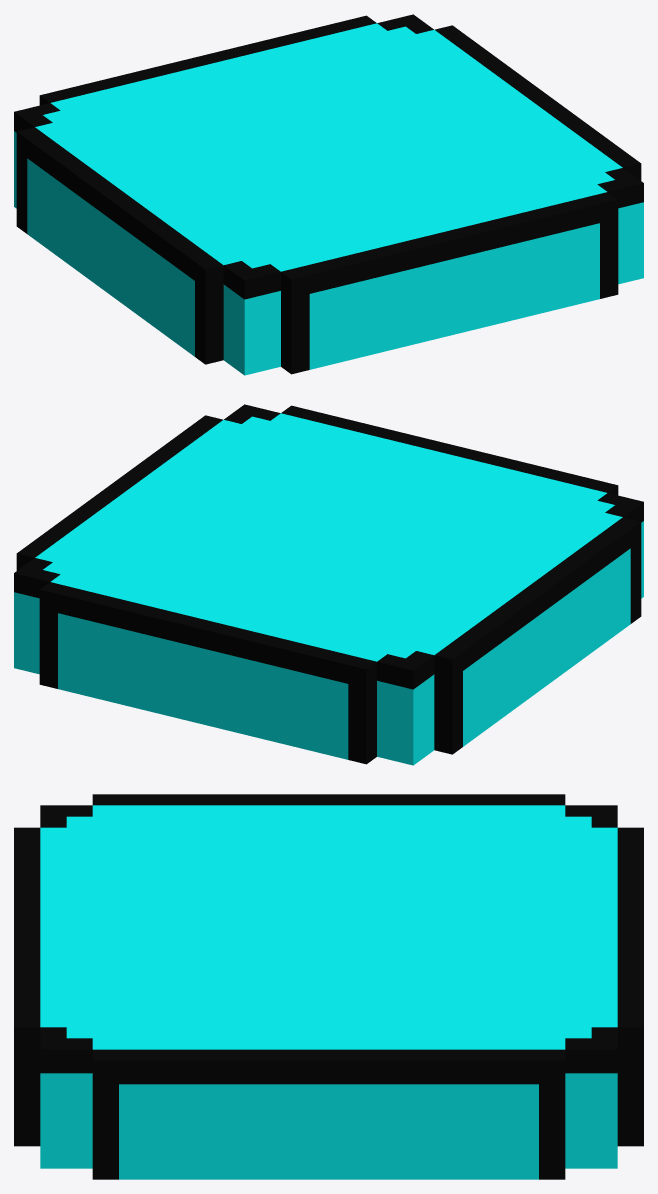
The model's file is pacmanlilly.obj.
3 views of the same model, one above another, from view 1: azimuth 30°, elevation 25°; view 2: azimuth 150°, elevation 25°; view 3: azimuth 270°, elevation 25° (orthographic). The views are drawn at different scales.
Size of the model in its own units: 2.4 by 0.5 by 2.4.
Materials: 1 (1 with a texture image).
